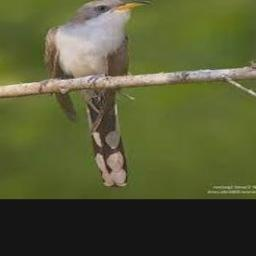Cuckoo: (46, 0, 153, 187)
